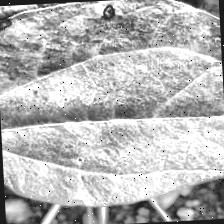ALS: (0, 0, 224, 209)
